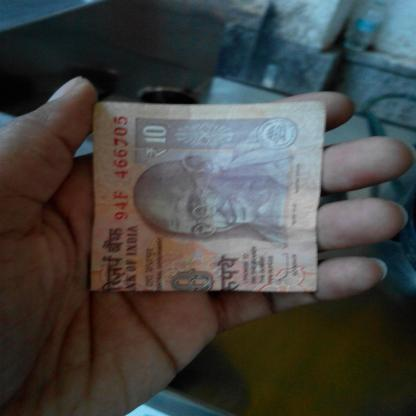Old10Front: (92, 100, 324, 294)
